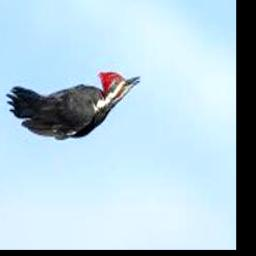Woodpecker: (4, 71, 139, 138)
